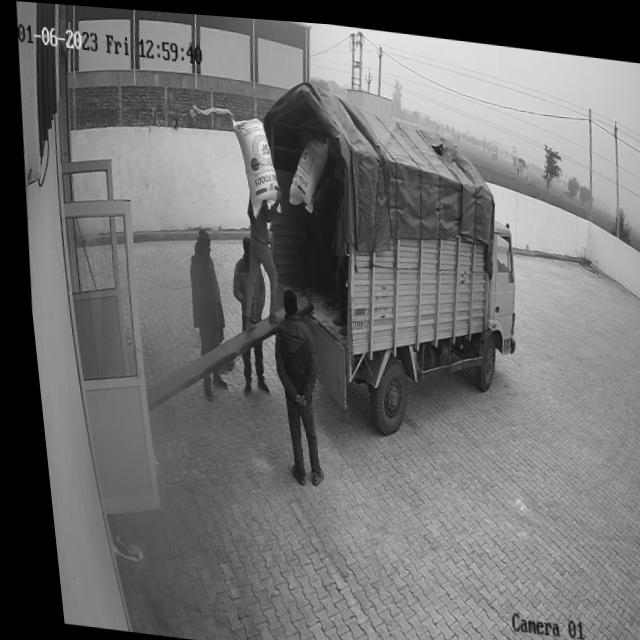sack: (224, 109, 283, 219), (279, 129, 333, 210)
